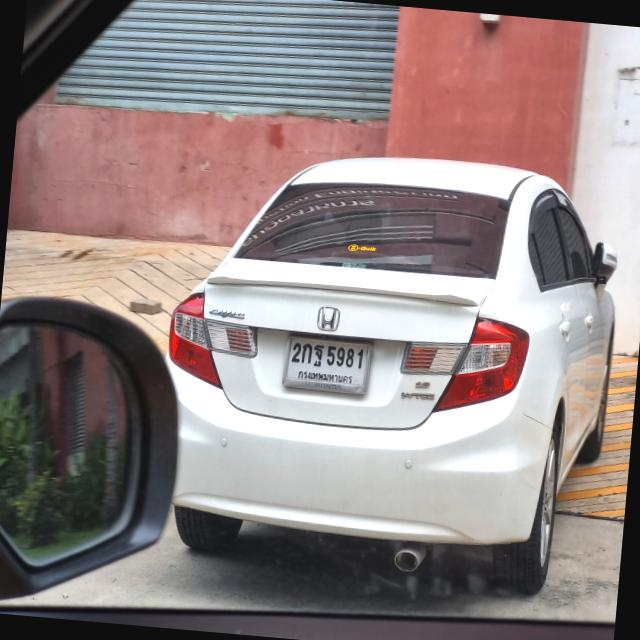license_plate: (281, 328, 376, 400)
